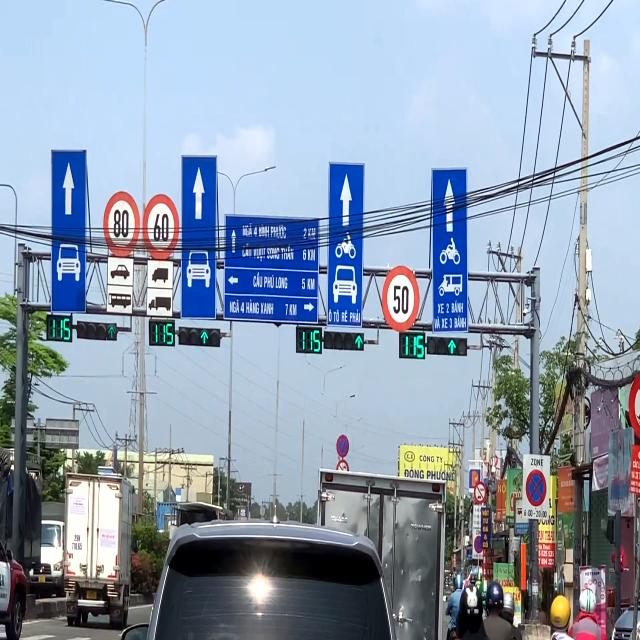P.127: (382, 265, 420, 333), (103, 190, 140, 258), (143, 193, 180, 260)
P.130: (525, 469, 547, 507), (336, 434, 349, 457), (474, 536, 484, 554)
